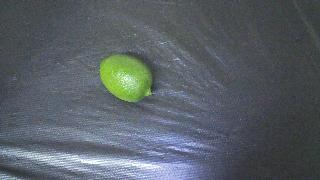LOCAL: (100, 54, 153, 102)
